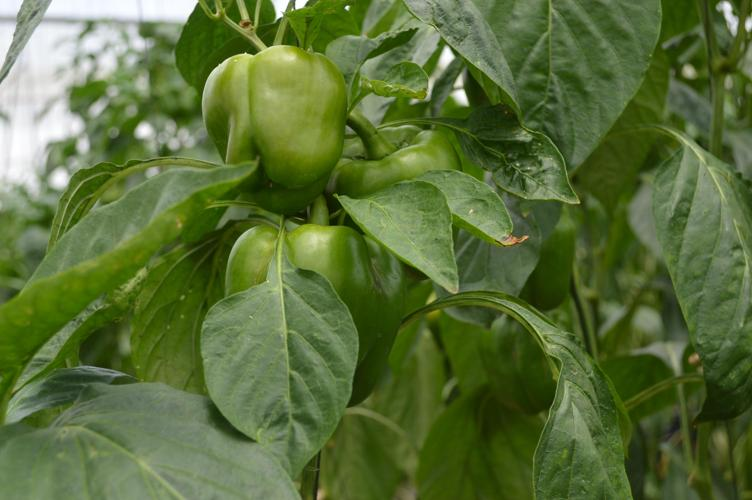BellPepper: (231, 228, 398, 406), (200, 50, 344, 210), (335, 122, 464, 192), (513, 217, 573, 309)
